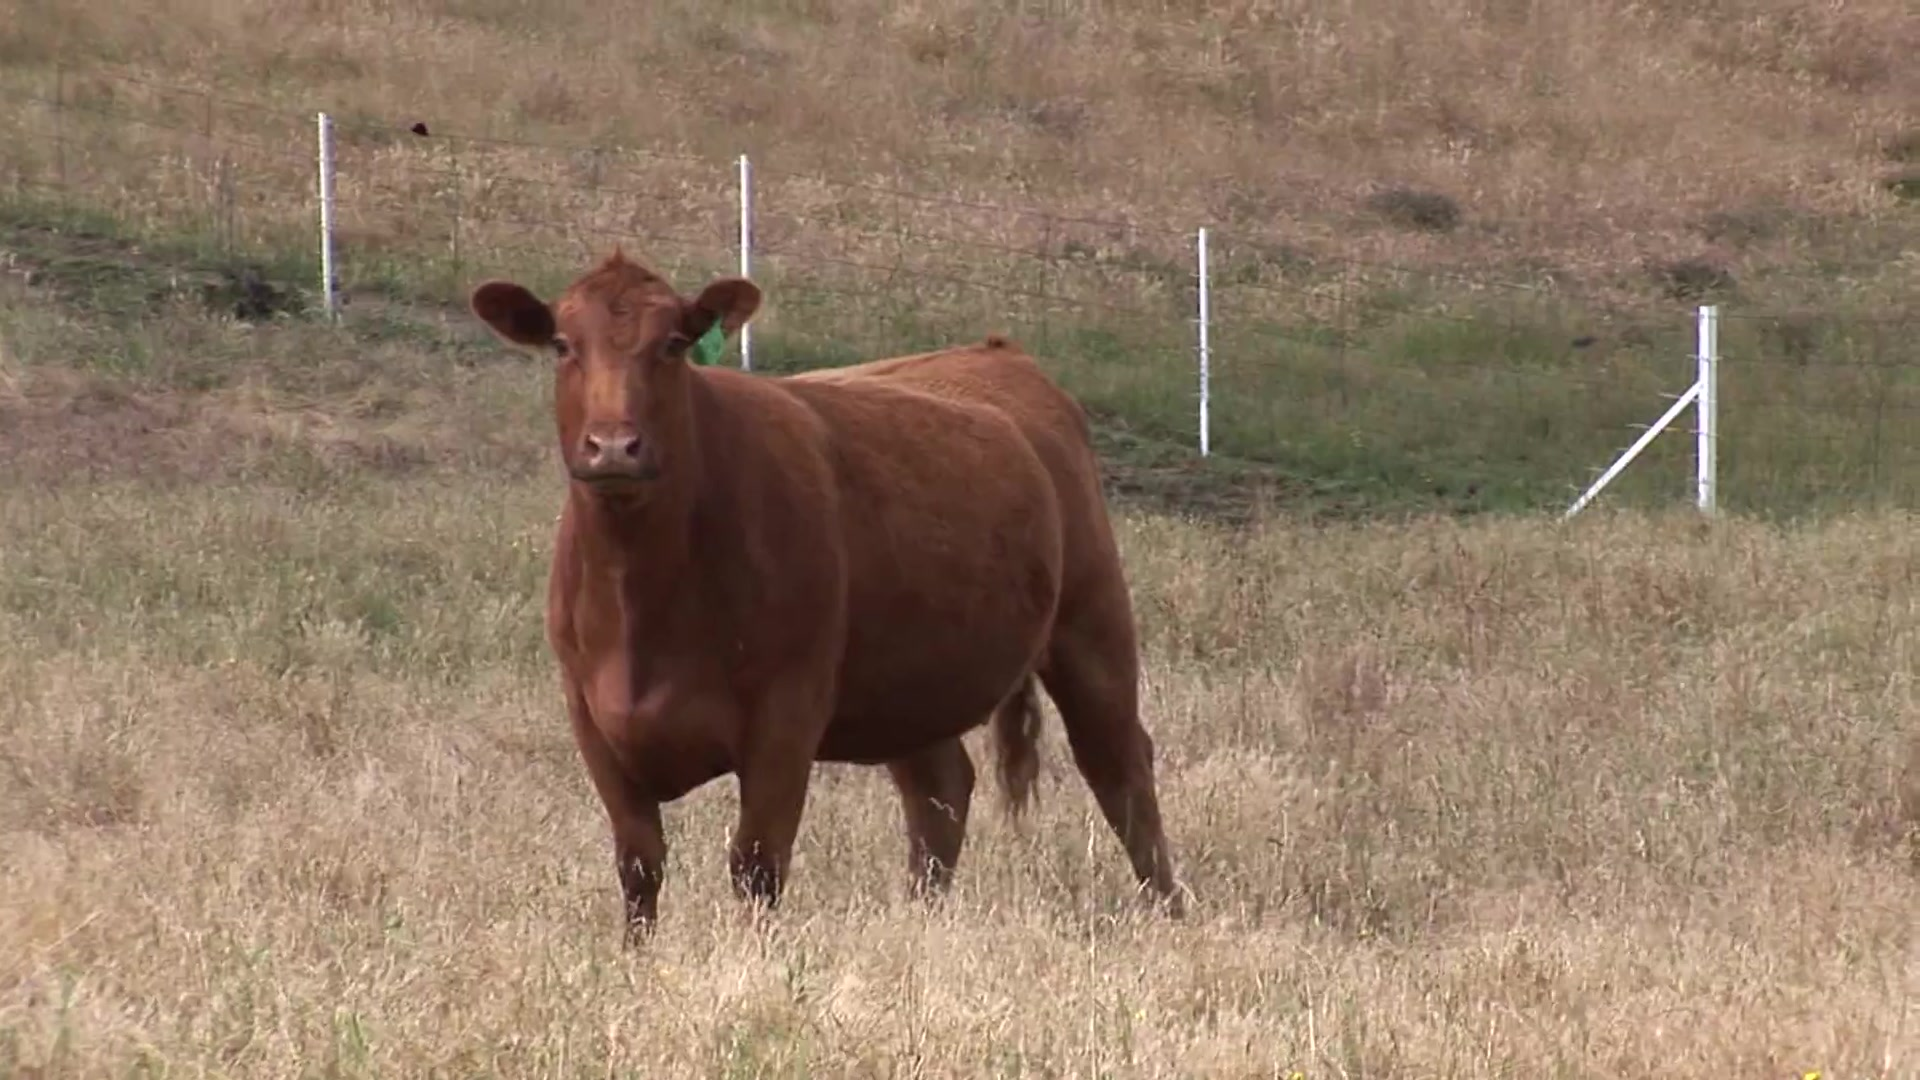cow: (472, 239, 1182, 920)
